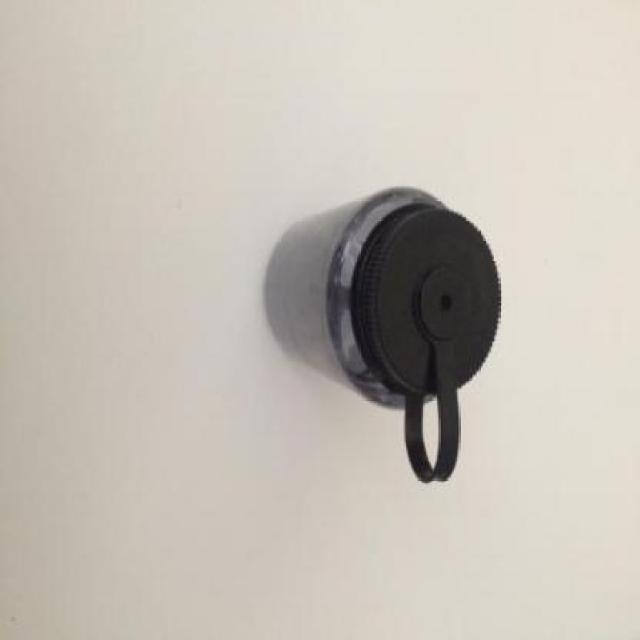PLASTIC: (266, 183, 503, 482), (353, 202, 504, 478)
